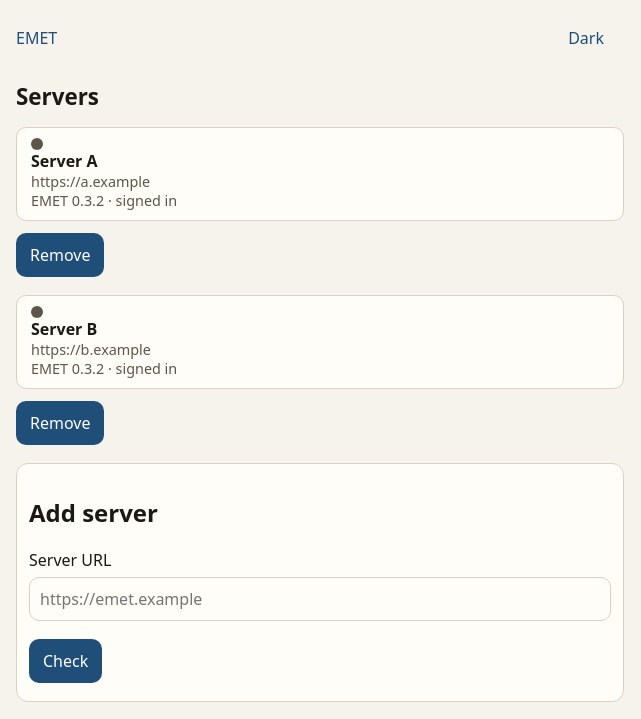
per-server requests › uses only the active server token and clears the screen on switch
Click the button "Server A https://a.example EMET 0.3.2 · signed in" at (64, 161), box [16, 127, 624, 221]
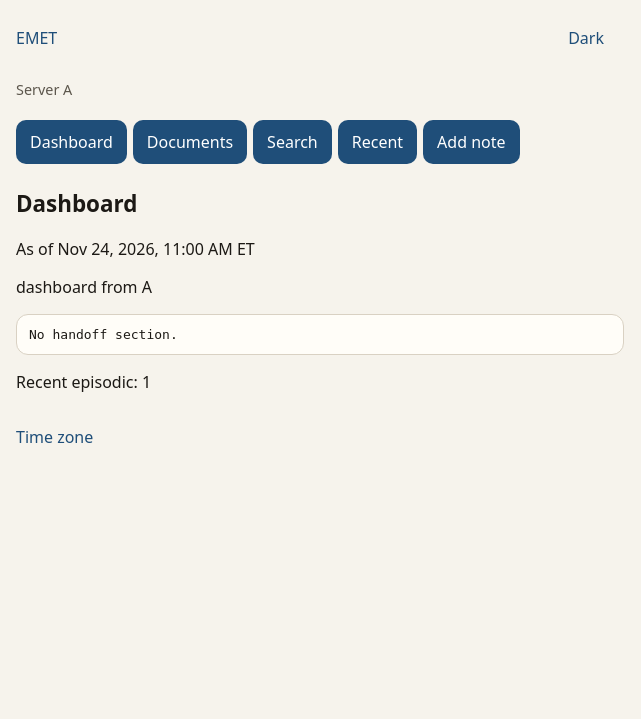
Check: the text "dashboard from A" is shown, box [16, 276, 152, 298]
Click the button "EMET" at (44, 38), box [16, 16, 71, 60]
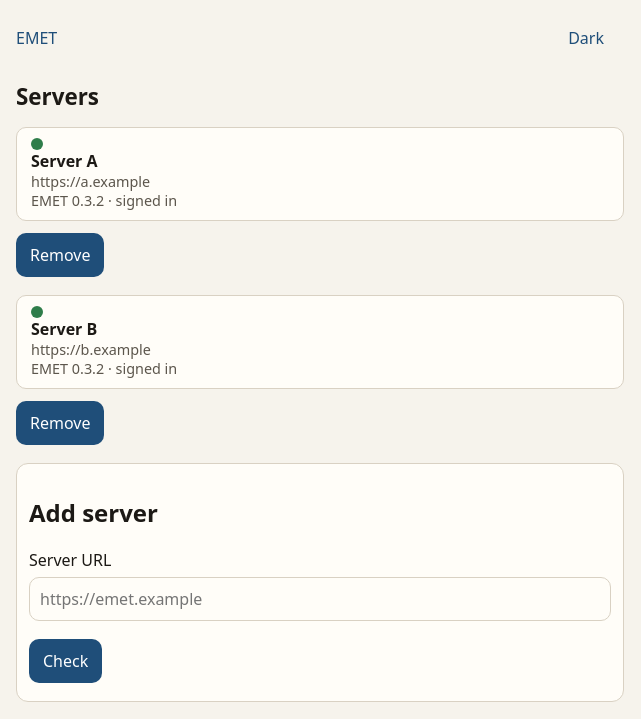
Click the button "Server B https://b.example EMET 0.3.2 · signed in" at (64, 329), box [16, 295, 624, 389]
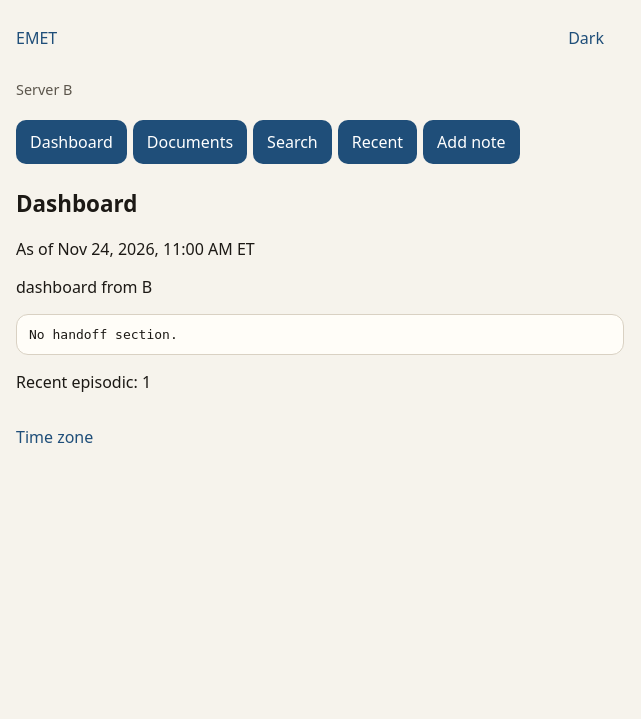
Check: the text "dashboard from A" is not shown
Check: the text "dashboard from B" is shown, box [16, 276, 152, 298]
